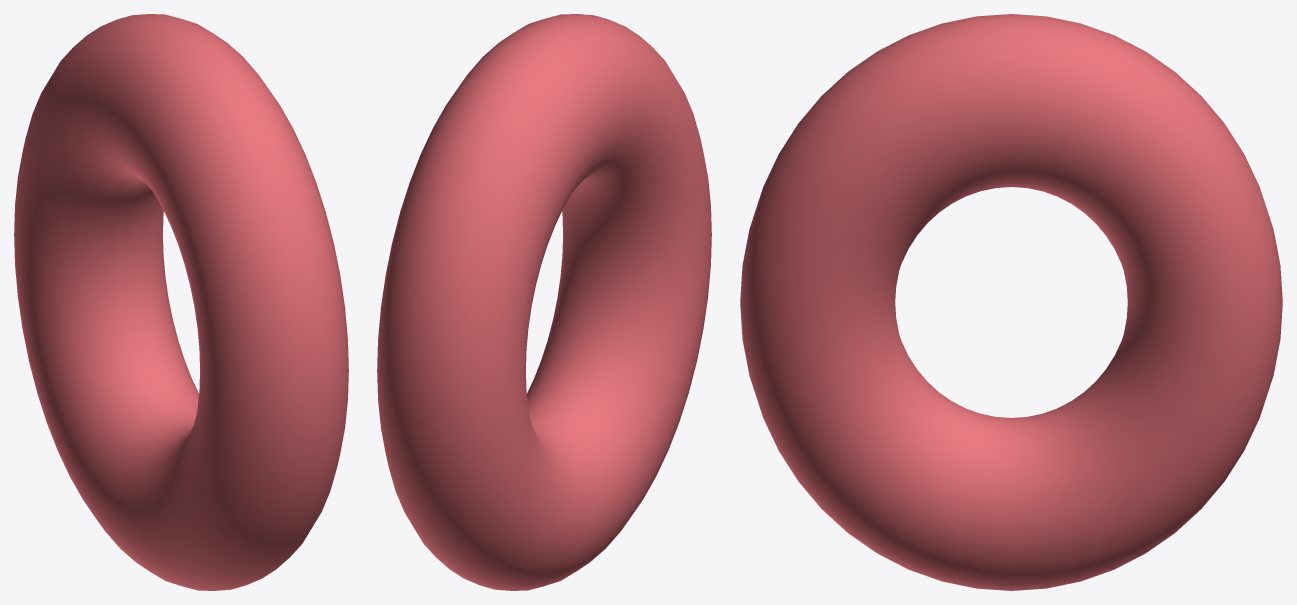
Rendered from LetterO.glb.
3 views of the same model, side by side, from view 1: azimuth 30°, elevation 25°; view 2: azimuth 150°, elevation 25°; view 3: azimuth 270°, elevation 25° (orthographic). The views are drawn at different scales.
Visible parts, largest first — view 1: O; view 2: O; view 3: O.
Part boxes in pixels (bbox=[...]): O: bbox=[14, 14, 348, 590]; O: bbox=[377, 14, 711, 590]; O: bbox=[740, 14, 1282, 590].
Bounding box in the file's own units: 0.7553 × 3.04 × 2.64.
